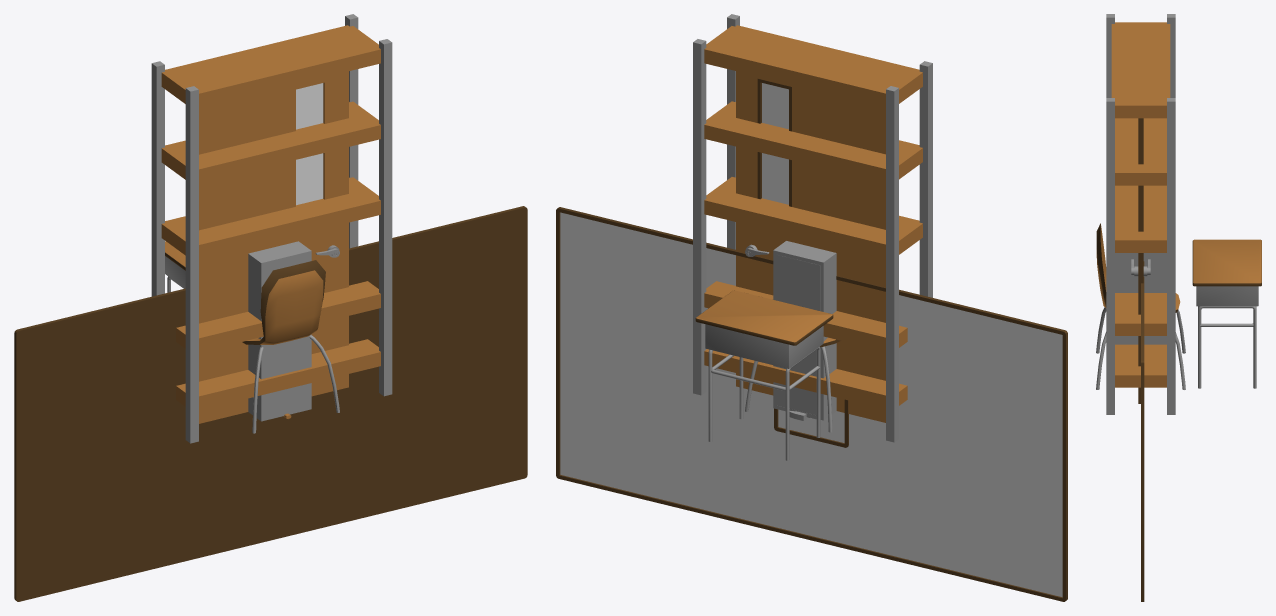
The model's file is Furnitures.fbx.
3 views of the same model, side by side, from view 1: azimuth 30°, elevation 25°; view 2: azimuth 150°, elevation 25°; view 3: azimuth 270°, elevation 25° (orthographic). The views are drawn at different scales.
Visible parts, largest first — view 1: Write_board, Shelf, Classroom_door, Double_tier_locker, Student_chair, Student_table; view 2: Write_board, Shelf, Classroom_door, Student_table, Double_tier_locker_door, Double_tier_locker, Calendar, Student_chair; view 3: Shelf, Student_table, Double_tier_locker, Student_chair, Write_board, Classroom_door.
Part boxes in pixels (x1,y1,x2,y2): Write_board: [14, 206, 527, 601]; Shelf: [151, 14, 392, 443]; Classroom_door: [199, 71, 348, 423]; Double_tier_locker: [248, 241, 311, 421]; Student_chair: [242, 260, 339, 433]; Student_table: [165, 241, 185, 292]; Write_board: [556, 207, 1067, 601]; Shelf: [693, 14, 932, 442]; Classroom_door: [736, 71, 885, 422]; Student_table: [695, 290, 833, 460]; Double_tier_locker_door: [776, 255, 820, 415]; Double_tier_locker: [773, 241, 836, 420]; Calendar: [774, 399, 848, 447]; Student_chair: [745, 337, 840, 432]; Shelf: [1106, 14, 1175, 414]; Student_table: [1192, 239, 1261, 388]; Double_tier_locker: [1115, 253, 1166, 344]; Student_chair: [1096, 223, 1185, 389]; Write_board: [1141, 261, 1144, 601]; Classroom_door: [1138, 118, 1143, 403].
Bounding box in the file's own units: 304 × 96 × 277.
